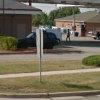Tree: (39, 5, 78, 19)
